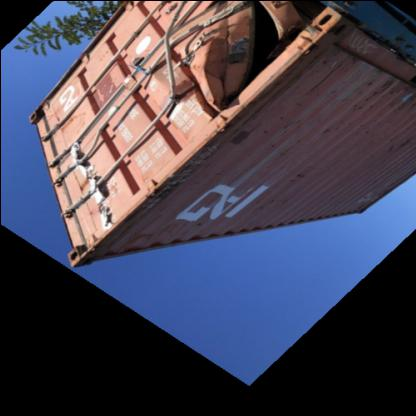Damage: (58, 0, 292, 188)
